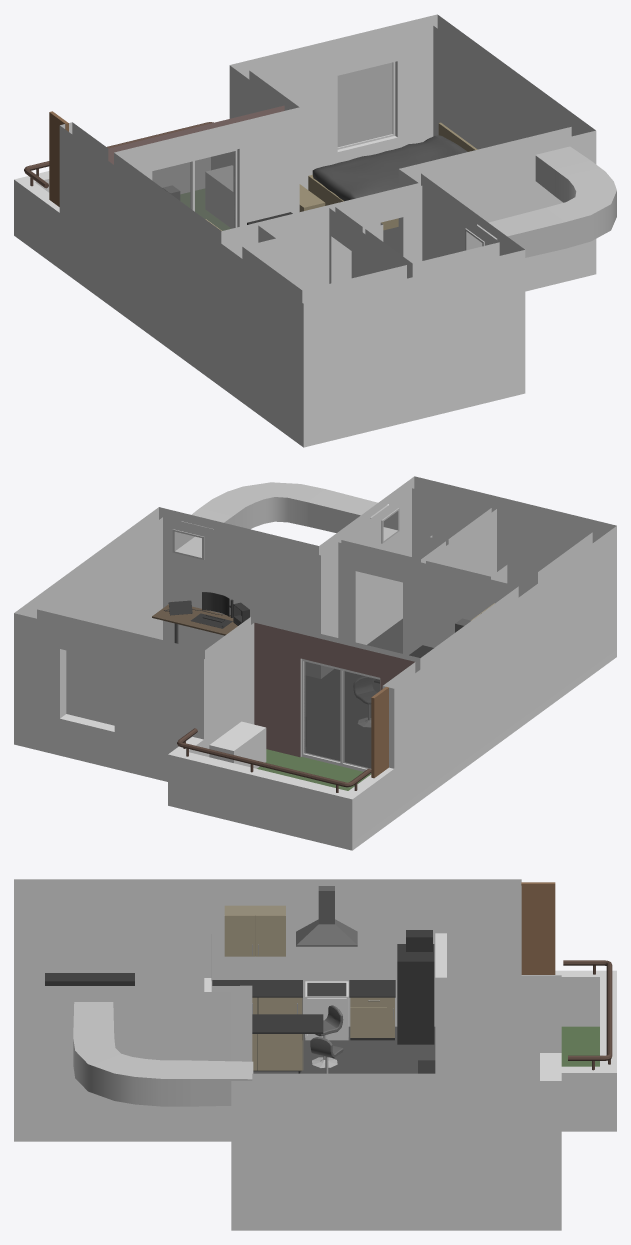
Rendered from HOME_Maps_Test_V1.fbx.
The picture shows the model from 3 angles, top to bottom: view 1: azimuth 30°, elevation 25°; view 2: azimuth 150°, elevation 25°; view 3: azimuth 270°, elevation 25°; orthographic projection. The views are drawn at different scales.
Parts seen in each view (by area): view 1: polySurface45, polySurface57, pCube203, couverture, polySurface60, polySurface59, polySurface41, pCube129, polySurface44, pCube128, pCube117, polySurface38 (+1 smaller); view 2: polySurface45, polySurface57, polySurface44, pCube203, polySurface41, polySurface47, polySurface59, polySurface46, pCube129, pCube128, polySurface38, pDisc71 (+1 smaller); view 3: polySurface45, polySurface57, pCube203, polySurface47, pCube101, pCube128, pCube111, polySurface29, polySurface26, polySurface46, polySurface18, polySurface15 (+12 smaller).
Boxes of the visible parts, x1=… form: polySurface45: x1=14, y1=14, x2=596, y2=447; polySurface57: x1=114, y1=25, x2=571, y2=303; pCube203: x1=465, y1=146, x2=616, y2=257; couverture: x1=312, y1=135, x2=467, y2=201; polySurface60: x1=337, y1=62, x2=392, y2=146; polySurface59: x1=337, y1=62, x2=392, y2=146; polySurface41: x1=152, y1=151, x2=234, y2=230; pCube129: x1=205, y1=165, x2=232, y2=228; polySurface44: x1=108, y1=105, x2=284, y2=164; pCube128: x1=49, y1=111, x2=68, y2=206; pCube117: x1=308, y1=122, x2=477, y2=205; polySurface38: x1=152, y1=149, x2=237, y2=227; polySurface45: x1=14, y1=476, x2=616, y2=850; polySurface57: x1=37, y1=488, x2=592, y2=756; polySurface44: x1=254, y1=622, x2=414, y2=757; pCube203: x1=172, y1=482, x2=399, y2=559; polySurface41: x1=304, y1=661, x2=379, y2=769; polySurface47: x1=306, y1=618, x2=402, y2=768; polySurface59: x1=68, y1=651, x2=114, y2=723; polySurface46: x1=257, y1=749, x2=370, y2=790; pCube129: x1=209, y1=721, x2=266, y2=768; pCube128: x1=371, y1=686, x2=388, y2=778; polySurface38: x1=301, y1=659, x2=380, y2=773; pDisc71: x1=177, y1=728, x2=371, y2=787; polySurface45: x1=14, y1=879, x2=616, y2=1230; polySurface57: x1=43, y1=885, x2=561, y2=1080; pCube203: x1=73, y1=1002, x2=253, y2=1106; polySurface47: x1=253, y1=1026, x2=435, y2=1073; pCube101: x1=397, y1=944, x2=434, y2=1044; pCube128: x1=521, y1=882, x2=555, y2=974; pCube111: x1=296, y1=886, x2=357, y2=946; polySurface29: x1=257, y1=1034, x2=302, y2=1070; polySurface26: x1=252, y1=1014, x2=323, y2=1033; polySurface46: x1=561, y1=1026, x2=599, y2=1066; polySurface18: x1=350, y1=1007, x2=394, y2=1037; polySurface15: x1=224, y1=915, x2=255, y2=956.
Size of the model in its own units: 298 by 103 by 376.
